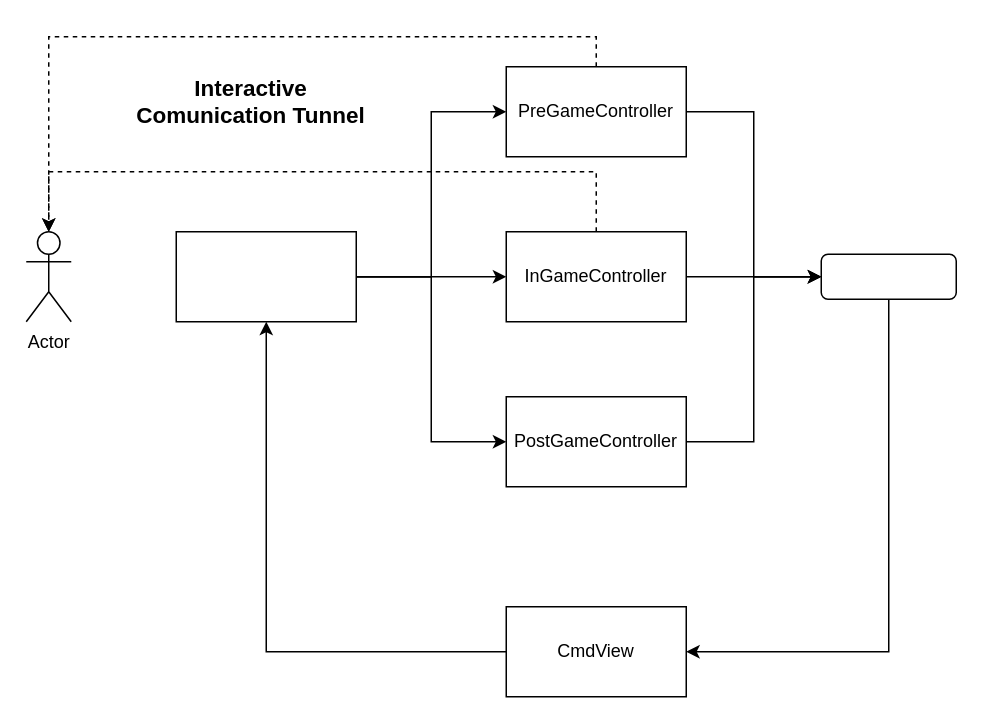
Some shapes in this 983 by 723 pixel diagram are drawn without their labels. Here are the shapes that lost their labels. From the top down, the centre of each, then its label:
At (265,276): "Client (Front Controller)".
At (888,276): "Game (ThreadLocal)".
